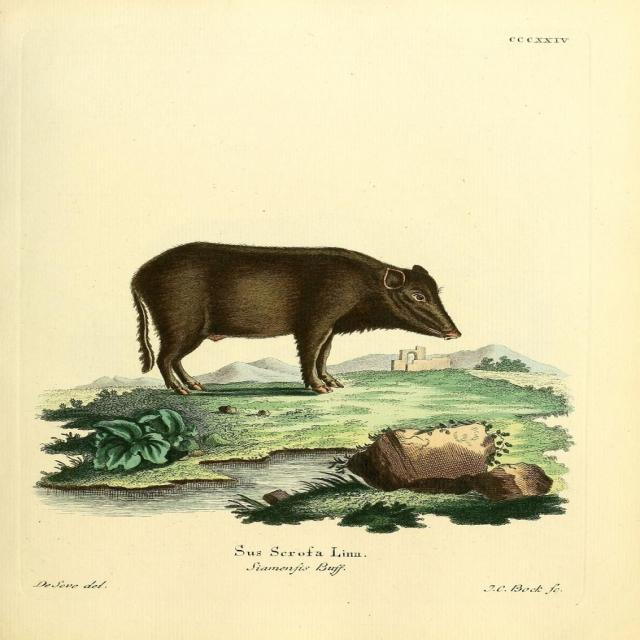Pig: (128, 239, 463, 400)
